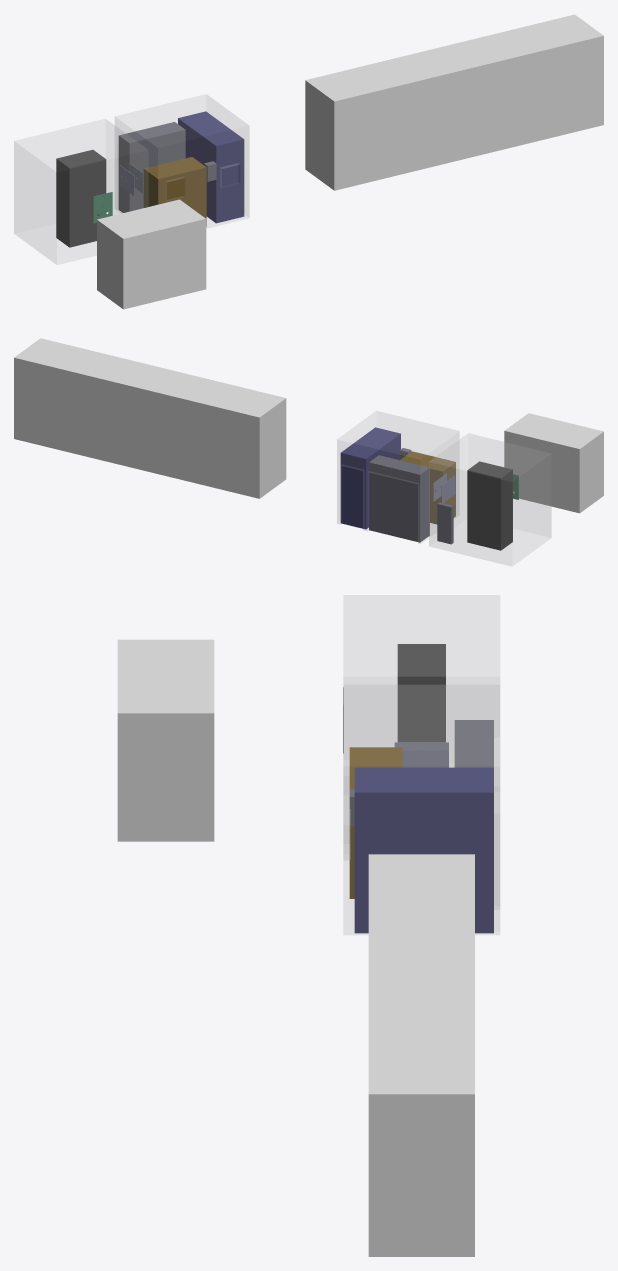
The model's file is assembly.glb.
3 views of the same model, one above another, from view 1: azimuth 30°, elevation 25°; view 2: azimuth 150°, elevation 25°; view 3: azimuth 270°, elevation 25° (orthographic). The views are drawn at different scales.
Parts seen in each view (by area): view 1: EXT-BESS-001, container_shell (×2), EXT-DC-002, GRD-SWG-001, CMP-RACK-001, GRD-LVS-001, GRD-XFM-001, ARC-PLT-CD; view 2: EXT-BESS-001, container_shell (×2), EXT-DC-002, GRD-LVS-001, CMP-RACK-001, GRD-SWG-001, GRD-XFM-001, CMP-PNL-001; view 3: container_shell (×2), EXT-BESS-001, EXT-DC-002, GRD-SWG-001, CMP-RACK-001, GRD-LVS-001, GRD-XFM-001.
Boxes of the visible parts, box(x1,y1,x2,y2) form: EXT-BESS-001: box(305, 14, 603, 190); container_shell (×2): box(14, 94, 249, 264); EXT-DC-002: box(97, 199, 206, 309); GRD-SWG-001: box(178, 111, 244, 223); CMP-RACK-001: box(56, 149, 106, 247); GRD-LVS-001: box(118, 122, 185, 212); GRD-XFM-001: box(143, 157, 206, 226); ARC-PLT-CD: box(93, 192, 112, 223); EXT-BESS-001: box(14, 338, 286, 498); container_shell (×2): box(337, 411, 551, 566); EXT-DC-002: box(504, 413, 603, 513); GRD-LVS-001: box(369, 455, 429, 542); CMP-RACK-001: box(467, 461, 512, 550); GRD-SWG-001: box(340, 427, 400, 529); GRD-XFM-001: box(400, 451, 455, 524); CMP-PNL-001: box(437, 502, 453, 544); container_shell (×2): box(343, 595, 500, 934); EXT-BESS-001: box(368, 854, 474, 1256); EXT-DC-002: box(117, 639, 214, 841); GRD-SWG-001: box(354, 767, 493, 933); CMP-RACK-001: box(397, 644, 445, 742); GRD-LVS-001: box(454, 720, 493, 767); GRD-XFM-001: box(349, 747, 402, 898).
Size of the model in its own units: 18082 by 2896 by 5938.
